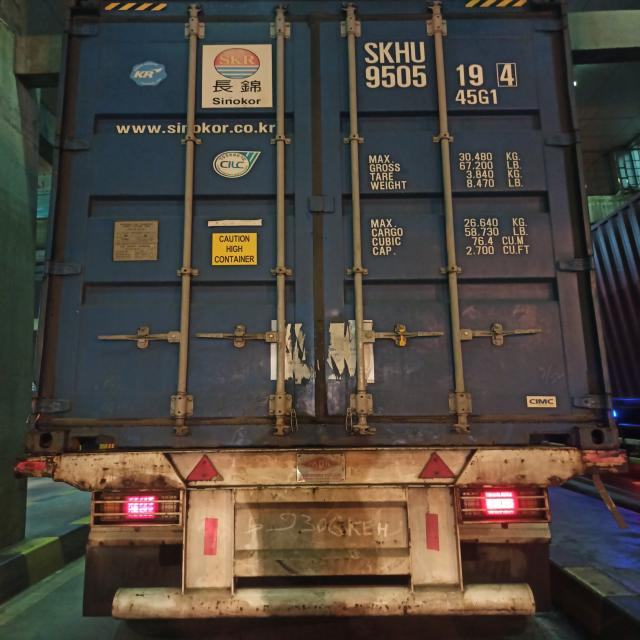seal: (397, 328, 407, 347)
